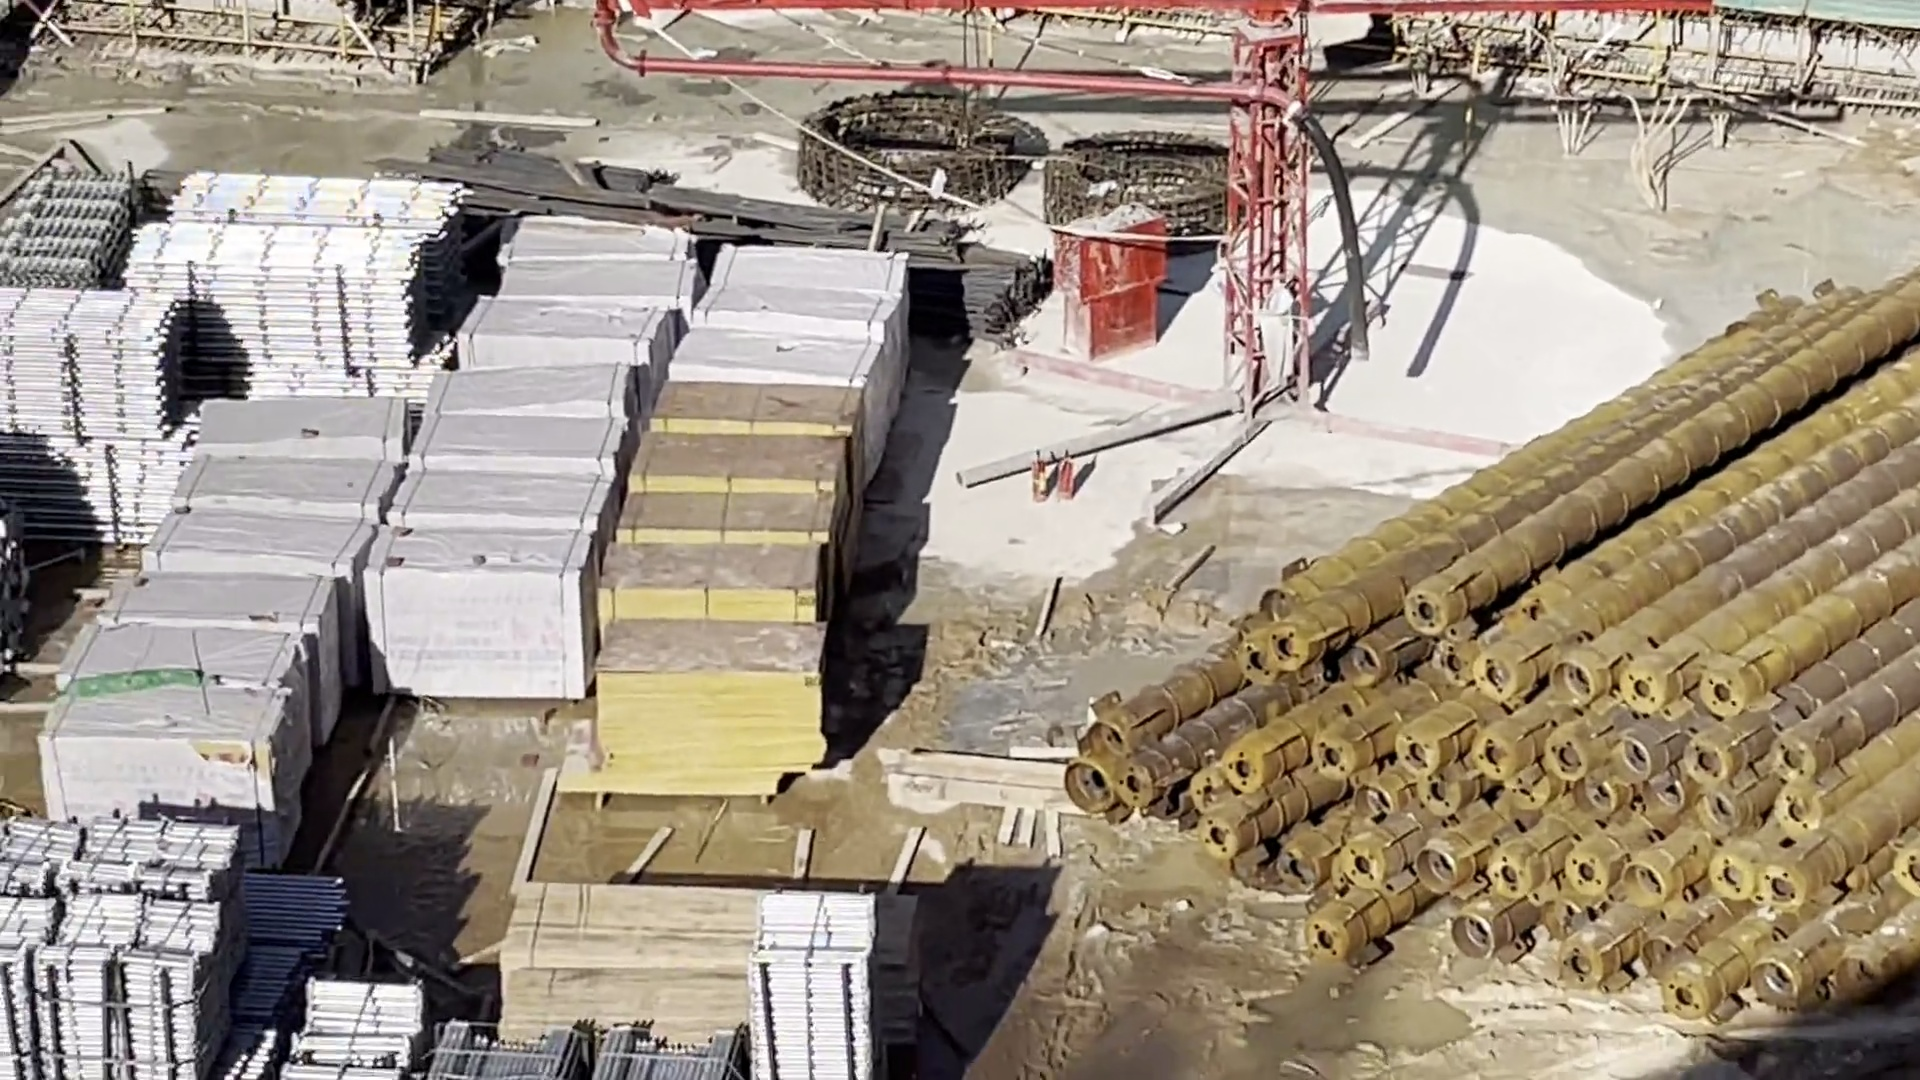board: (613, 392, 815, 793), (502, 887, 733, 1035)
rebar: (509, 175, 1048, 338)
scaffold: (131, 177, 467, 367), (1, 818, 243, 1069), (1, 295, 178, 531), (760, 895, 869, 1080), (439, 1021, 752, 1076), (3, 177, 127, 291), (297, 985, 417, 1080)
